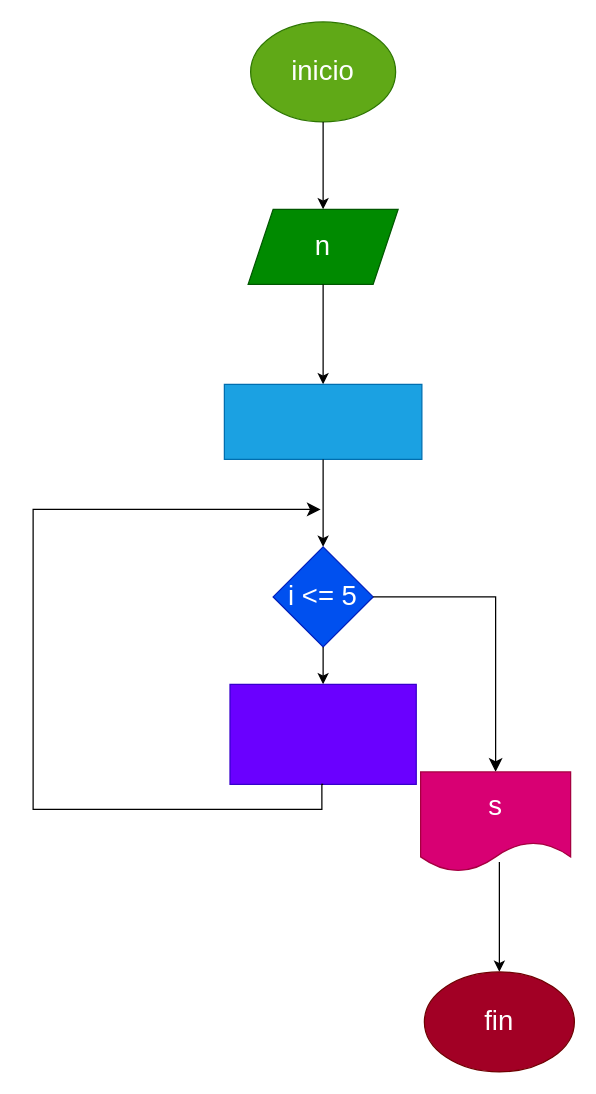
The diagram is 596 pixels wide and 1094 high, and some of its shapes have lost their labels. The shapes that lost their labels are listed below. From the top down, each one's centre as x and y in pixels, then its label:
At pixel 322 421: "s = h - (h%10) i = 10".
At pixel 322 733: "s = h-(10% h)".
